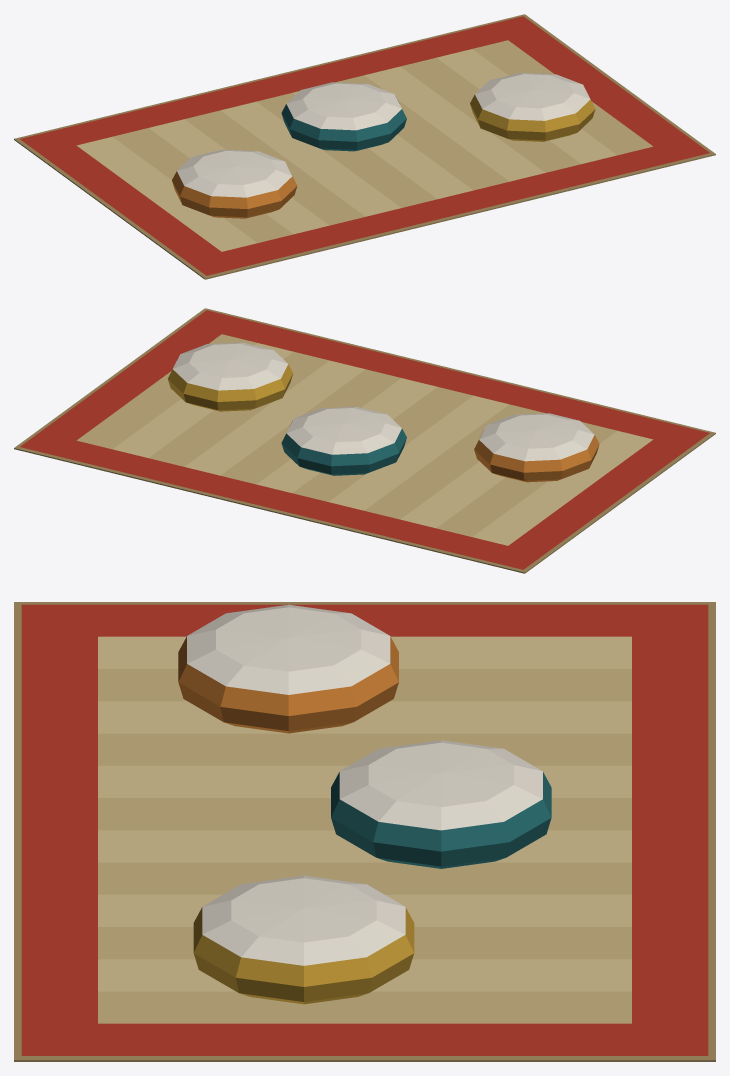
Rendered from chieu_meo.glb.
The picture shows the model from 3 angles, top to bottom: view 1: azimuth 30°, elevation 25°; view 2: azimuth 150°, elevation 25°; view 3: azimuth 270°, elevation 25°; orthographic projection. The views are drawn at different scales.
Visible parts, largest first — view 1: chieu_coi, goi_tron; view 2: chieu_coi, goi_tron; view 3: chieu_coi, goi_tron.
Boxes of the visible parts, x1=… form: chieu_coi: x1=14, y1=14, x2=715, y2=279; goi_tron: x1=172, y1=73, x2=595, y2=218; chieu_coi: x1=14, y1=308, x2=715, y2=573; goi_tron: x1=167, y1=342, x2=599, y2=482; chieu_coi: x1=14, y1=602, x2=715, y2=1061; goi_tron: x1=178, y1=604, x2=551, y2=1004.
Size of the model in its own units: 1.42 by 0.087 by 0.92.
